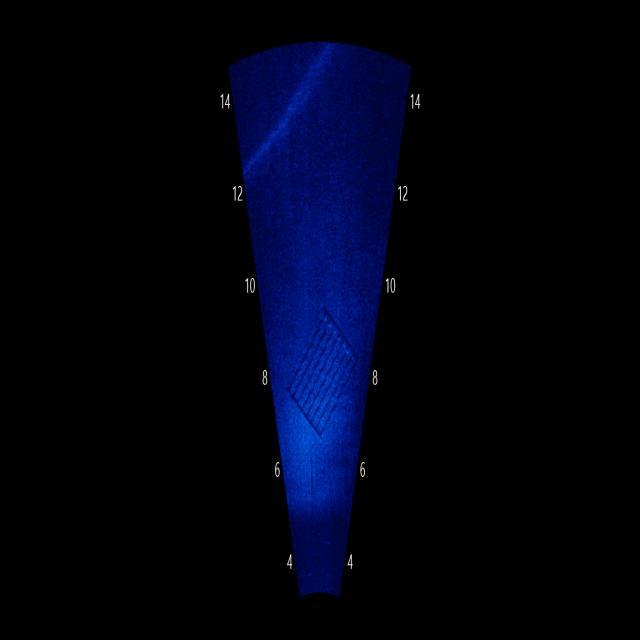square: (282, 302, 366, 453)
